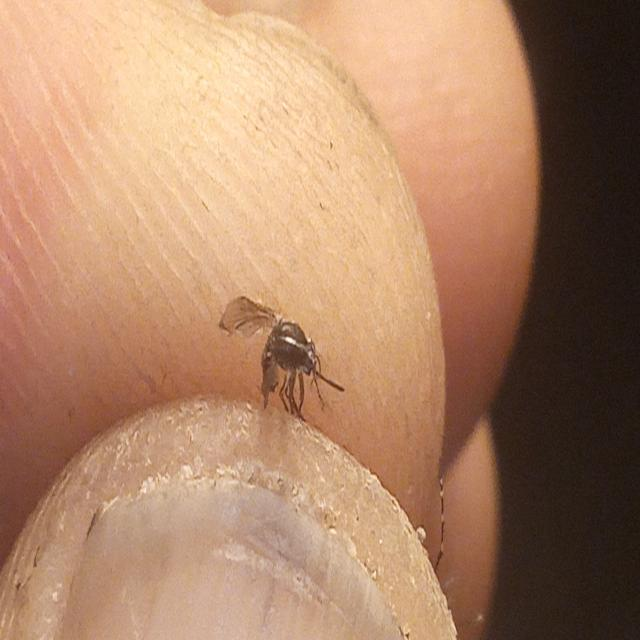albopictus: (212, 277, 342, 431)
